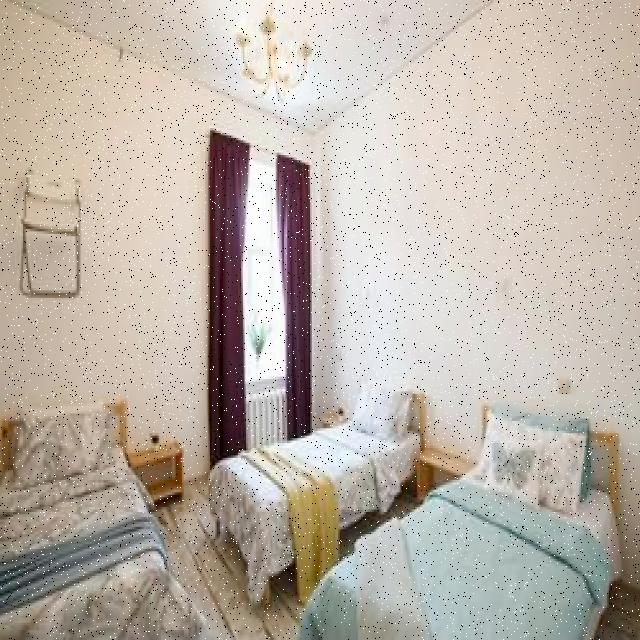bed: (318, 415, 637, 640), (0, 389, 145, 639), (211, 382, 421, 548)
